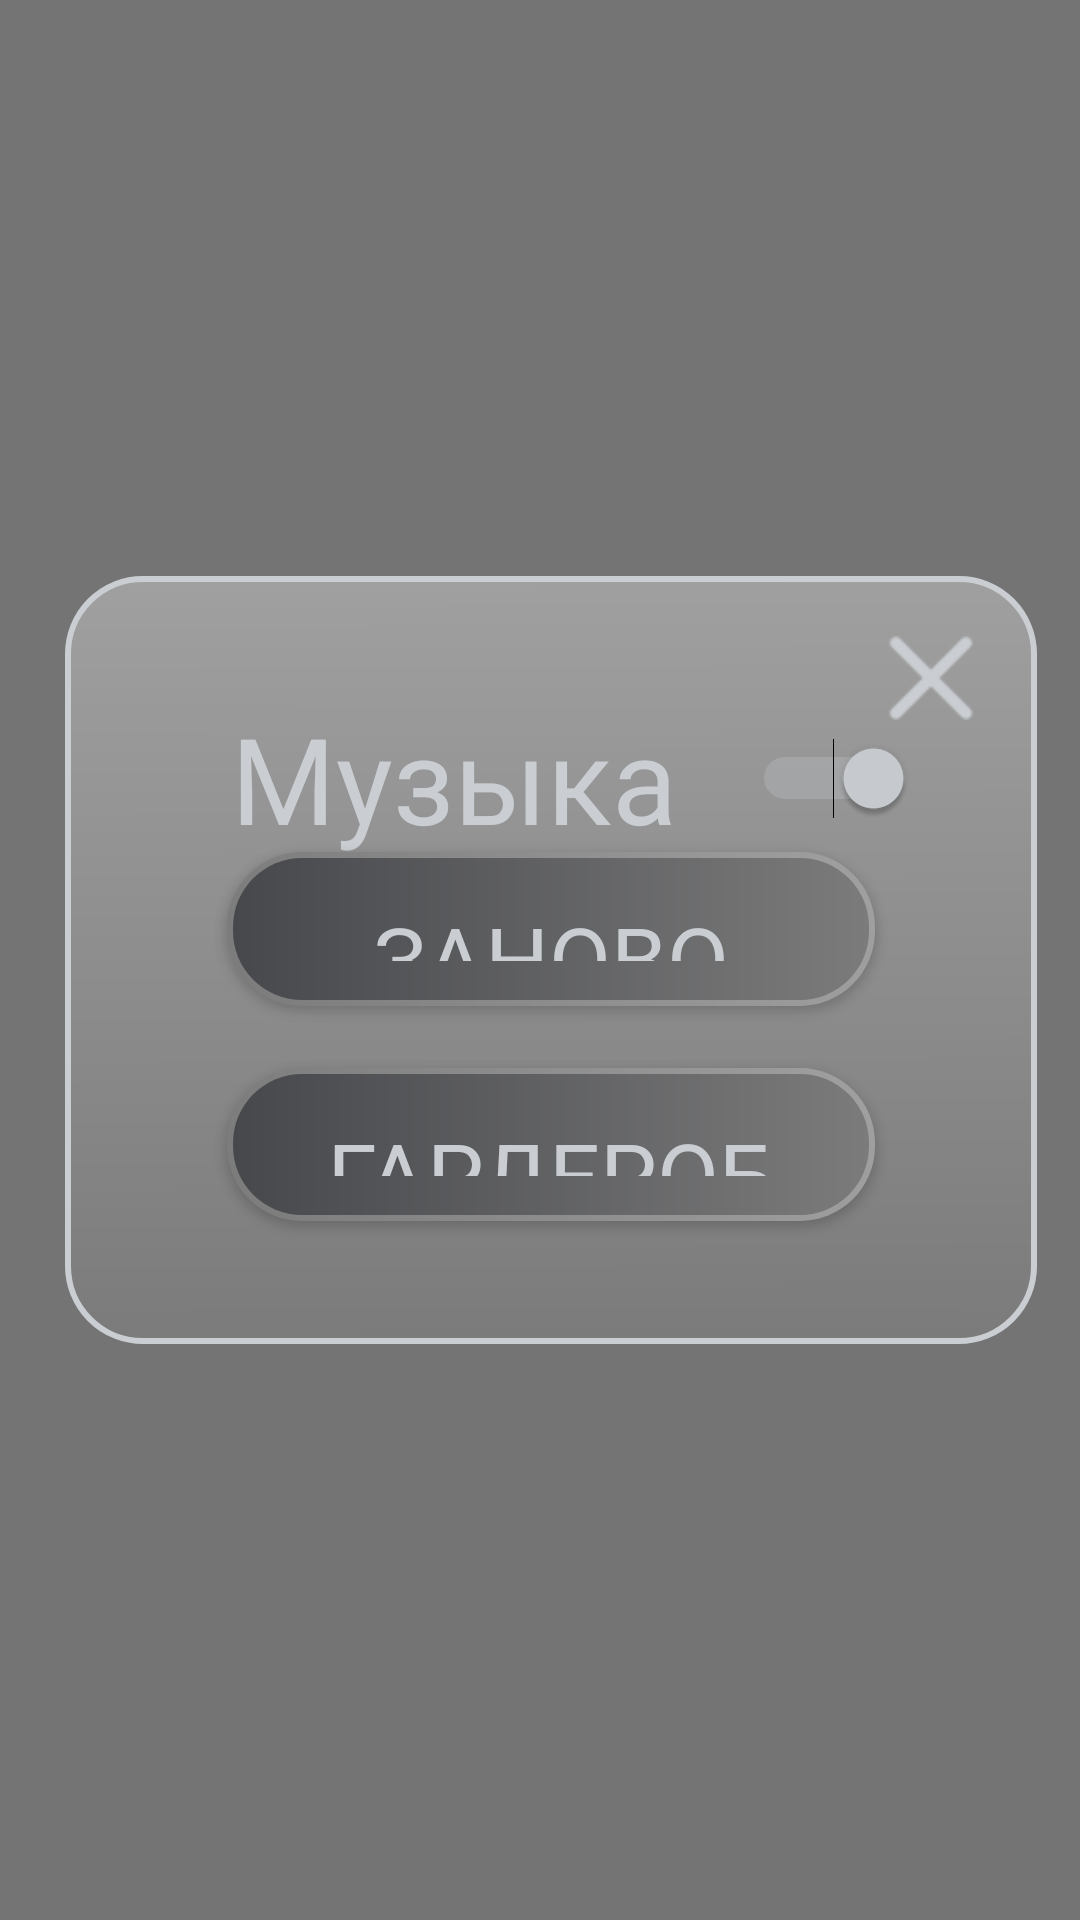

Point at icon controls on the screen. Image size 1080x1920, points as [x,y].
cancel: [931,678]
